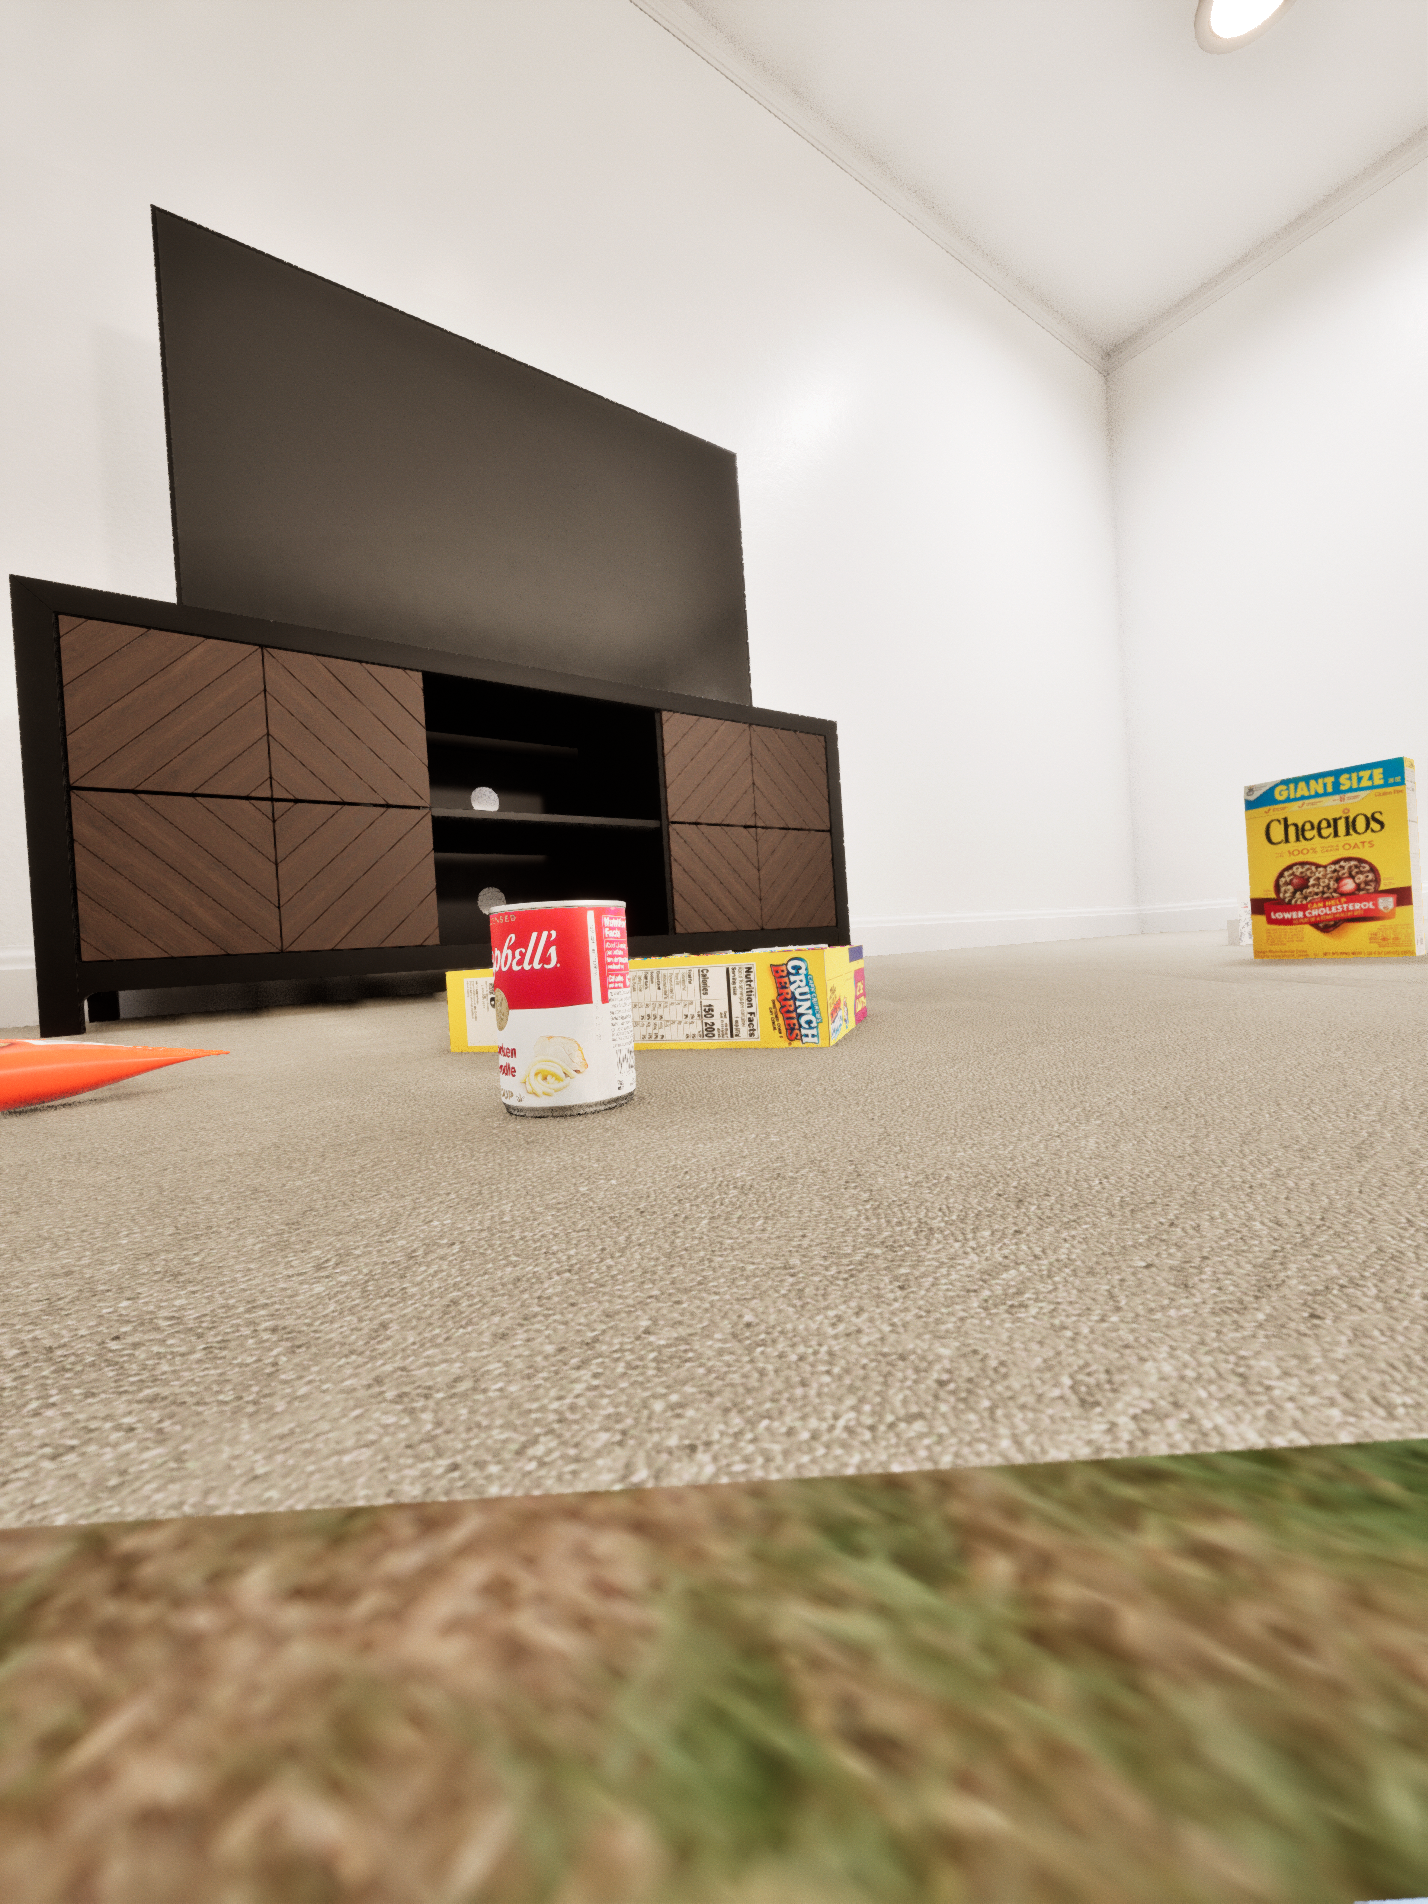cheerios: (658, 998, 856, 1376)
